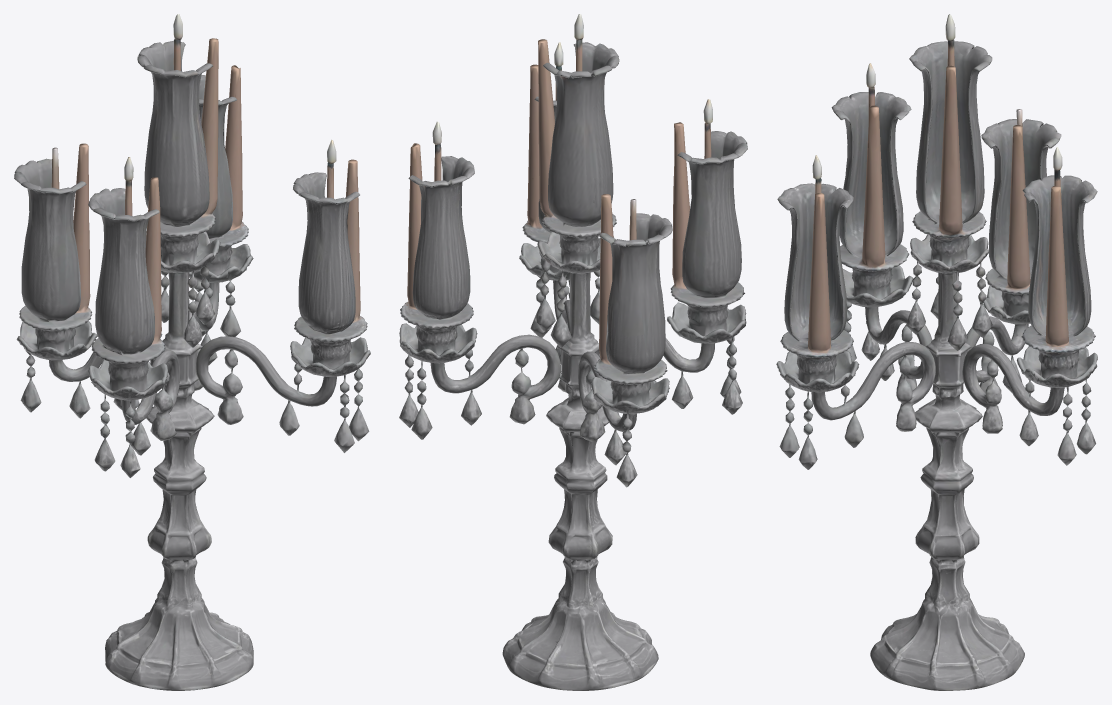
The model's file is decor-candleholder-crystal-b.glb.
The picture shows the model from 3 angles, left to right: view 1: azimuth 30°, elevation 25°; view 2: azimuth 150°, elevation 25°; view 3: azimuth 270°, elevation 25°; orthographic projection.
Parts seen in each view (by area): view 1: tripo_node_73a14247-d324-4064-87f7-04ff89afe140; view 2: tripo_node_73a14247-d324-4064-87f7-04ff89afe140; view 3: tripo_node_73a14247-d324-4064-87f7-04ff89afe140.
Part boxes in pixels (bbox=[...]): tripo_node_73a14247-d324-4064-87f7-04ff89afe140: bbox=[14, 14, 370, 690]; tripo_node_73a14247-d324-4064-87f7-04ff89afe140: bbox=[399, 14, 747, 690]; tripo_node_73a14247-d324-4064-87f7-04ff89afe140: bbox=[776, 14, 1097, 690].
Bounding box in the file's own units: 0.2025 × 0.5 × 0.226.
1 material, 1 textured.
